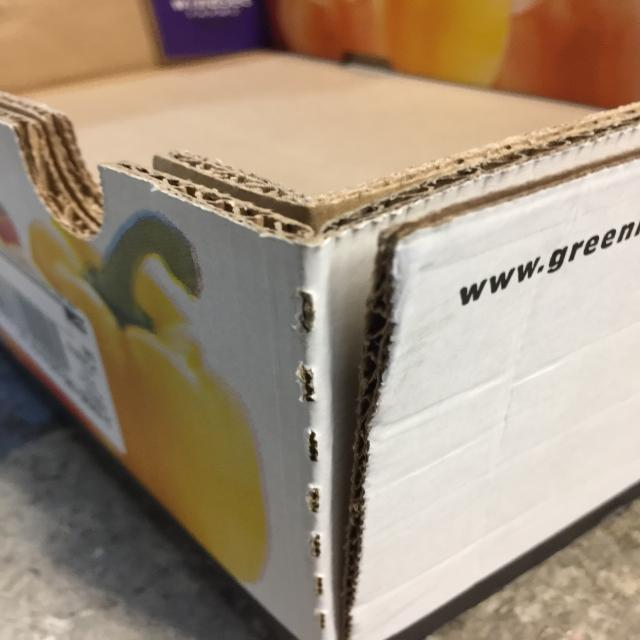cardboard: (1, 49, 638, 638)
